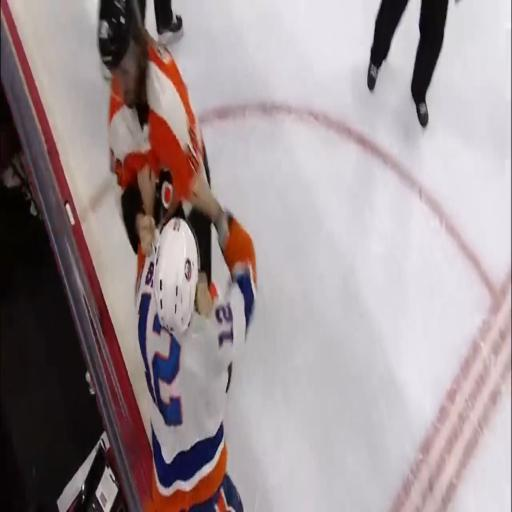violencia: (90, 0, 263, 512)
